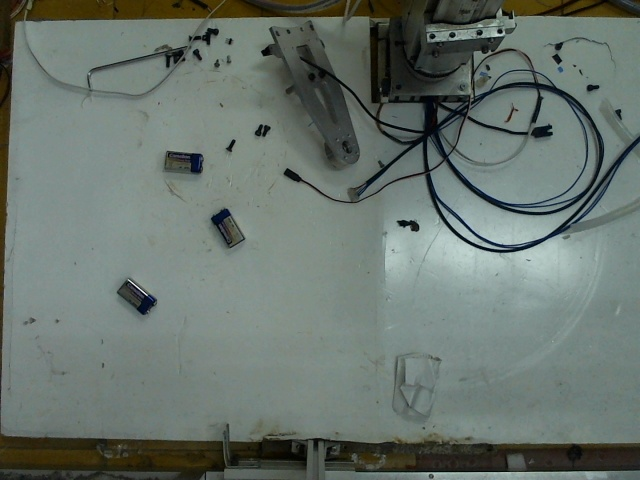battery: (207, 206, 249, 251), (115, 279, 157, 311), (162, 148, 201, 177)
